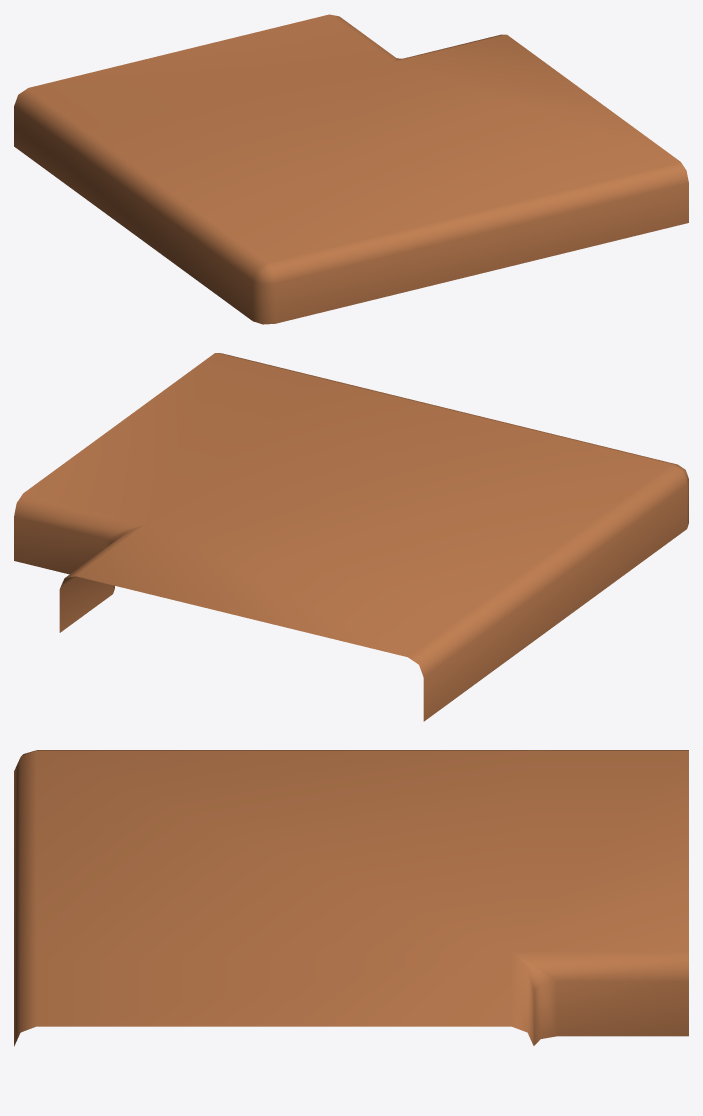
Rendered from road_02_corner.fbx.
3 views of the same model, one above another, from view 1: azimuth 30°, elevation 25°; view 2: azimuth 150°, elevation 25°; view 3: azimuth 270°, elevation 25° (orthographic). The views are drawn at different scales.
Parts seen in each view (by area): view 1: road_02_corner; view 2: road_02_corner; view 3: road_02_corner.
Boxes of the visible parts, x1,y1,x2,y2 form: road_02_corner: (14, 14, 688, 324); road_02_corner: (14, 353, 688, 721); road_02_corner: (14, 750, 688, 1046).
Bounding box in the file's own units: 16.26 × 2 × 16.26.
